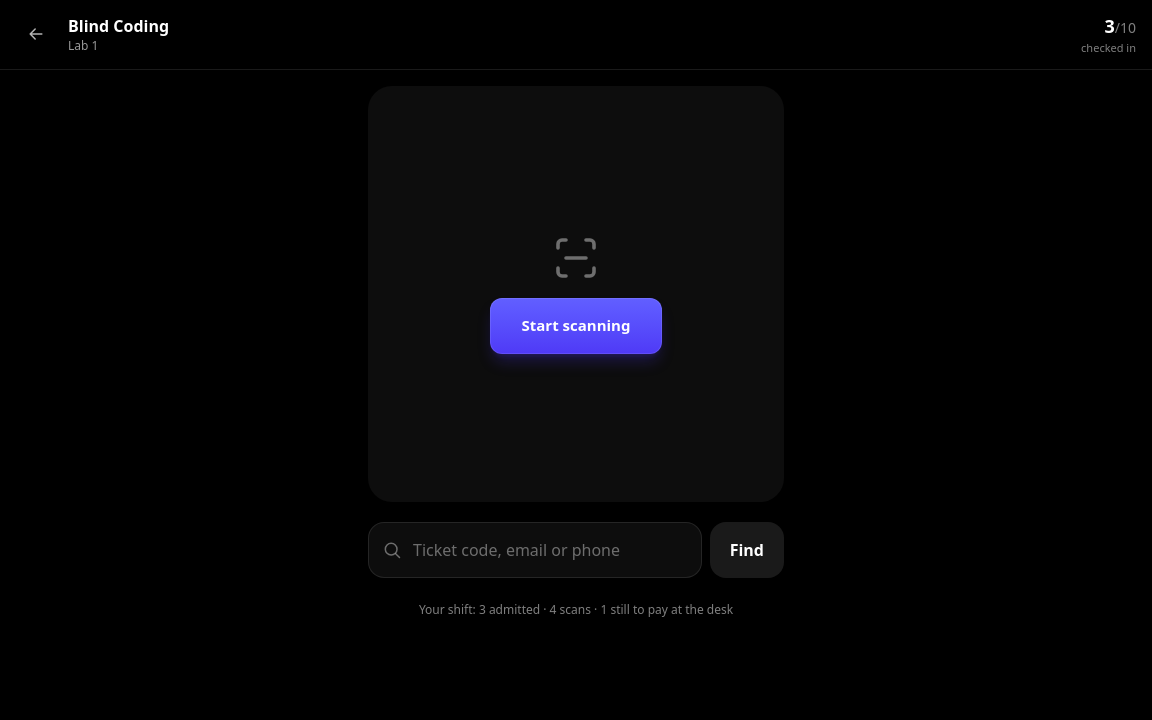
it: gate scanner › refusals stay on screen until "Next"; lookups list people with an Admit button
Step 1. Type "asha@nec.edu" into the field with placeholder "Ticket code, email or phone" → (535, 550), box left=368, top=522, right=702, bottom=578
Then press Enter
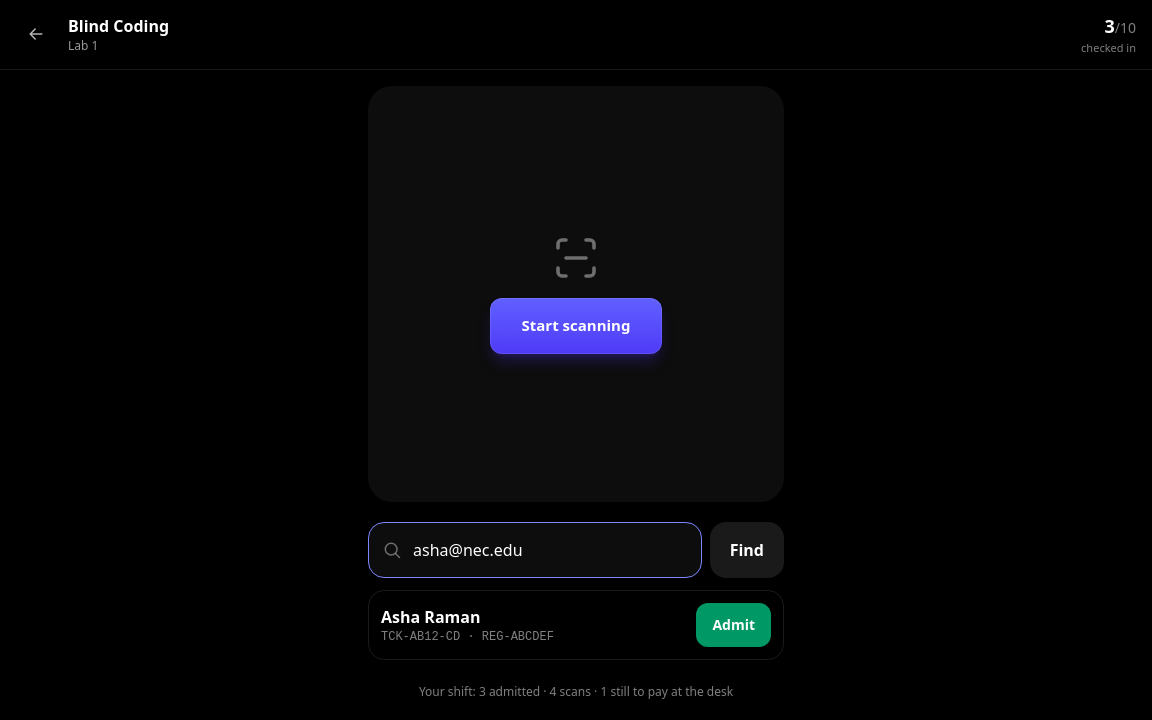
Step 2. Click the button "Admit" → (734, 624), box left=696, top=602, right=771, bottom=646
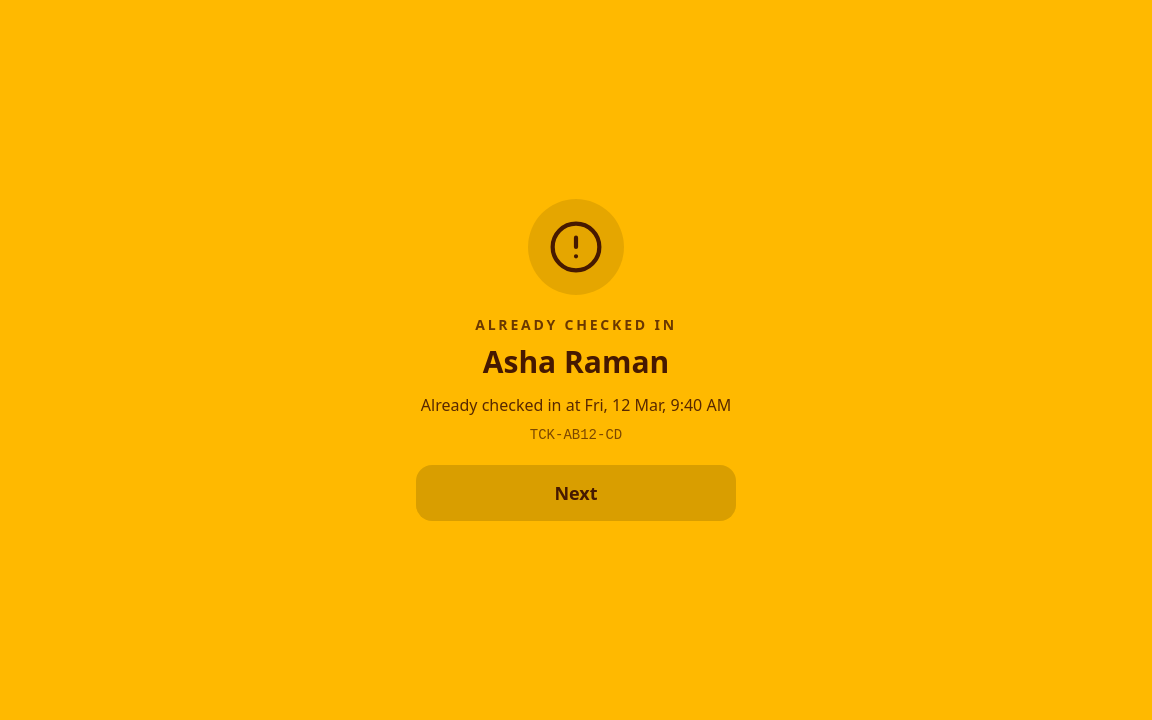
Check: the dialog "Already checked in" shows "9:40 AM", box left=421, top=394, right=731, bottom=416
Check: the dialog is shown
Step 3. Click the button "Next" → (576, 493), box left=416, top=465, right=736, bottom=521
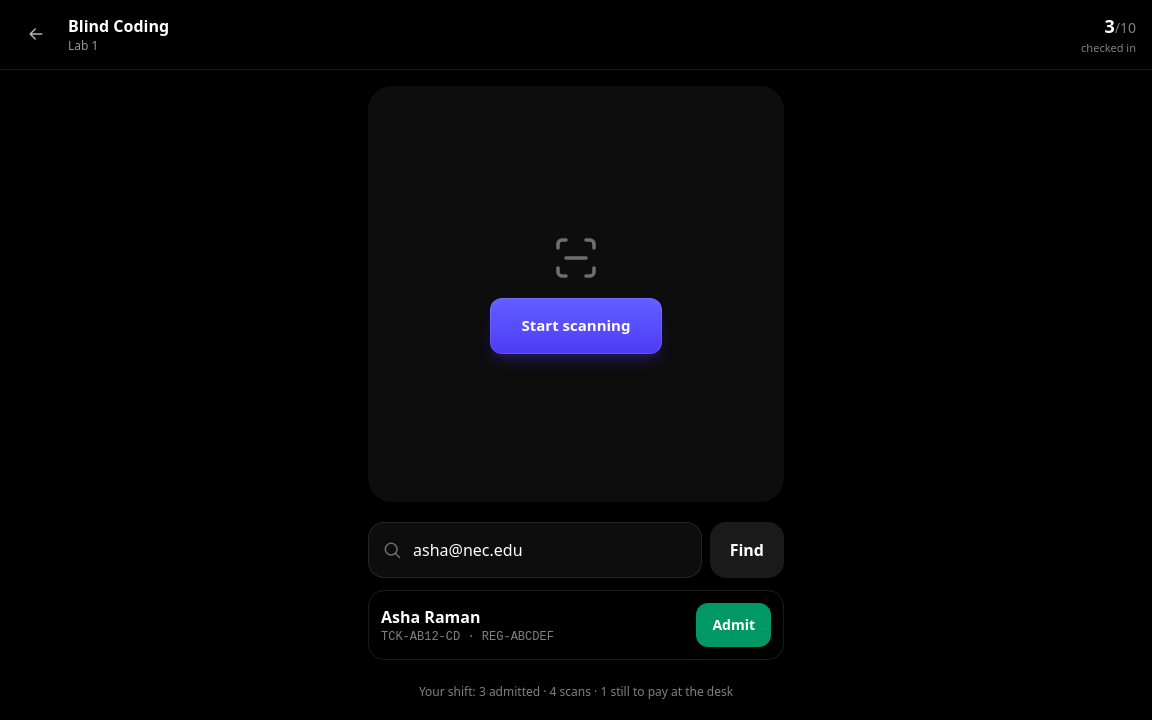
Check: the dialog is gone
